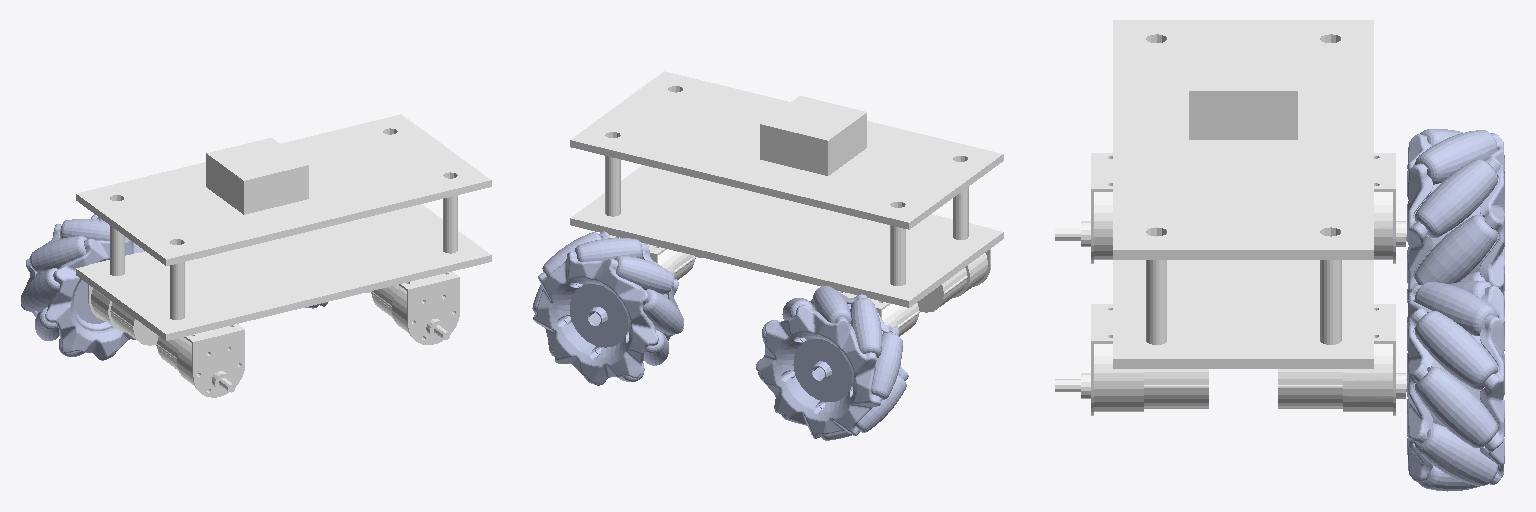
URDF robot description (robot):
<?xml version="1.0"?>
<!-- This URDF was automatically created by SolidWorks to URDF Exporter! Originally created by [author] ([email redacted]) 
     Commit Version: 1.6.0-4-g7f85cfe  Build Version: 1.6.7995.38578
     For more information, please see http://wiki.ros.org/sw_urdf_exporter -->
<robot
  name="robot">

  <!-- Robot Footprint -->
  <link name="base_footprint"/>

  <joint name="base_joint" type="fixed">
    <parent link="base_footprint"/>
    <child link="base_link"/>
    <origin xyz="0.0 0.0 0.080" rpy="0 0 0"/>
  </joint>

  <link
    name="base_link">
    <inertial>
      <origin
        xyz="-0.0049027 -0.0011362 0.0090593"
        rpy="0 0 0" />
      <mass
        value="0.60178" />
      <inertia
        ixx="0.00044806"
        ixy="1.8894E-19"
        ixz="2.1572E-21"
        iyy="0.0015844"
        iyz="-3.0697E-20"
        izz="0.0019811" />
    </inertial>
    <visual>
      <origin
        xyz="0 0 0"
        rpy="0 0 0" />
      <geometry>
        <mesh
          filename="package://robot_sim/meshes/base_link.STL" />
      </geometry>
      <material
        name="">
        <color
          rgba="1 1 1 1" />
      </material>
    </visual>
    <collision>
      <origin
        xyz="0 0 0"
        rpy="0 0 0" />
      <geometry>
        <mesh
          filename="package://robot_sim/meshes/base_link.STL" />
      </geometry>
    </collision>
  </link>
  <link
    name="wheel_front_left_link">
    <inertial>
      <origin
        xyz="-1.3717E-06 -6.2078E-06 -4.542E-06"
        rpy="0 0 0" />
      <mass
        value="0.19171" />
      <inertia
        ixx="0.00013676"
        ixy="-9.518E-09"
        ixz="-1.534E-09"
        iyy="0.00022818"
        iyz="-6.6421E-09"
        izz="0.00013676" />
    </inertial>
    <visual>
      <origin
        xyz="0 0 0"
        rpy="0 0 0" />
      <geometry>
        <mesh
          filename="package://robot_sim/meshes/wheel_front_left_link.STL" />
      </geometry>
      <material
        name="">
        <color
          rgba="0.79216 0.81961 0.93333 1" />
      </material>
    </visual>
    <collision>
      <origin
        xyz="0 0 0"
        rpy="0 0 0" />
      <geometry>
        <mesh
          filename="package://robot_sim/meshes/wheel_front_left_link.STL" />
      </geometry>
    </collision>
  </link>
  <joint
    name="wheel_front_left_joint"
    type="continuous">
    <origin
      xyz="0.075 0.096581 -0.037"
      rpy="0 0 0" />
    <parent
      link="base_link" />
    <child
      link="wheel_front_left_link" />
    <axis
      xyz="0 -1 0" />
  </joint>
  <link
    name="wheel_front_right_link">
    <inertial>
      <origin
        xyz="-1.3952E-06 7.9272E-06 -4.5505E-06"
        rpy="0 0 0" />
      <mass
        value="0.19167" />
      <inertia
        ixx="0.00013674"
        ixy="8.6003E-09"
        ixz="1.8421E-09"
        iyy="0.00022815"
        iyz="7.2195E-09"
        izz="0.00013674" />
    </inertial>
    <visual>
      <origin
        xyz="0 0 0"
        rpy="0 0 0" />
      <geometry>
        <mesh
          filename="package://robot_sim/meshes/wheel_front_right_link.STL" />
      </geometry>
      <material
        name="">
        <color
          rgba="0.79216 0.81961 0.93333 1" />
      </material>
    </visual>
    <collision>
      <origin
        xyz="0 0 0"
        rpy="0 0 0" />
      <geometry>
        <mesh
          filename="package://robot_sim/meshes/wheel_front_right_link.STL" />
      </geometry>
    </collision>
  </link>
  <joint
    name="wheel_front_right_joint"
    type="continuous">
    <origin
      xyz="0.075 -0.098854 -0.037"
      rpy="0 0 0" />
    <parent
      link="base_link" />
    <child
      link="wheel_front_right_link" />
    <axis
      xyz="0 1 0" />
  </joint>
  <link
    name="wheel_back_left_link">
    <inertial>
      <origin
        xyz="1.3952E-06 -7.9272E-06 -4.5505E-06"
        rpy="0 0 0" />
      <mass
        value="0.19167" />
      <inertia
        ixx="0.00013674"
        ixy="8.6003E-09"
        ixz="-1.8422E-09"
        iyy="0.00022815"
        iyz="-7.2197E-09"
        izz="0.00013674" />
    </inertial>
    <visual>
      <origin
        xyz="0 0 0"
        rpy="0 0 0" />
      <geometry>
        <mesh
          filename="package://robot_sim/meshes/wheel_back_left_link.STL" />
      </geometry>
      <material
        name="">
        <color
          rgba="0.79216 0.81961 0.93333 1" />
      </material>
    </visual>
    <collision>
      <origin
        xyz="0 0 0"
        rpy="0 0 0" />
      <geometry>
        <mesh
          filename="package://robot_sim/meshes/wheel_back_left_link.STL" />
      </geometry>
    </collision>
  </link>
  <joint
    name="wheel_back_left_joint"
    type="continuous">
    <origin
      xyz="-0.09 0.096581 -0.037"
      rpy="0 0 0" />
    <parent
      link="base_link" />
    <child
      link="wheel_back_left_link" />
    <axis
      xyz="0 -1 0" />
  </joint>
  <link
    name="wheel_back_right_link">
    <inertial>
      <origin
        xyz="1.3718E-06 6.2078E-06 -4.542E-06"
        rpy="0 0 0" />
      <mass
        value="0.19171" />
      <inertia
        ixx="0.00013676"
        ixy="-9.5179E-09"
        ixz="1.534E-09"
        iyy="0.00022818"
        iyz="6.6421E-09"
        izz="0.00013676" />
    </inertial>
    <visual>
      <origin
        xyz="0 0 0"
        rpy="0 0 0" />
      <geometry>
        <mesh
          filename="package://robot_sim/meshes/wheel_back_right_link.STL" />
      </geometry>
      <material
        name="">
        <color
          rgba="0.79216 0.81961 0.93333 1" />
      </material>
    </visual>
    <collision>
      <origin
        xyz="0 0 0"
        rpy="0 0 0" />
      <geometry>
        <mesh
          filename="package://robot_sim/meshes/wheel_back_right_link.STL" />
      </geometry>
    </collision>
  </link>
  <joint
    name="wheel_back_right_joint"
    type="continuous">
    <origin
      xyz="-0.09 -0.098854 -0.037"
      rpy="0 0 0" />
    <parent
      link="base_link" />
    <child
      link="wheel_back_right_link" />
    <axis
      xyz="0 1 0" />
  </joint>
  <link
    name="camera_link">
    <inertial>
      <origin
        xyz="0.0011843 0.0003548 -0.0033111"
        rpy="0 0 0" />
      <mass
        value="0.081392" />
      <inertia
        ixx="0.00013785"
        ixy="2.1587E-07"
        ixz="-1.3621E-06"
        iyy="1.1529E-05"
        iyz="-8.2079E-07"
        izz="0.00013308" />
    </inertial>
    <visual>
      <origin
        xyz="0 0 0"
        rpy="0 0 0" />
      <geometry>
        <mesh
          filename="package://robot_sim/meshes/camera_link.STL" />
      </geometry>
      <material
        name="">
        <color
          rgba="1 1 1 1" />
      </material>
    </visual>
    <collision>
      <origin
        xyz="0 0 0"
        rpy="0 0 0" />
      <geometry>
        <mesh
          filename="package://robot_sim/meshes/camera_link.STL" />
      </geometry>
    </collision>
  </link>
  <joint
    name="camera_joint"
    type="fixed">
    <origin
      xyz="0.08163 -0.0012919 0.08"
      rpy="0 0 0" />
    <parent
      link="base_link" />
    <child
      link="camera_link" />
    <axis
      xyz="0 0 0" />
  </joint>
  <link
    name="lidar_link">
    <inertial>
      <origin
        xyz="0.0099114 0.0021626 -0.0089204"
        rpy="0 0 0" />
      <mass
        value="0.019617" />
      <inertia
        ixx="7.6914E-06"
        ixy="-1.9553E-08"
        ixz="8.717E-08"
        iyy="6.4932E-06"
        iyz="-2.6626E-08"
        izz="1.3458E-05" />
    </inertial>
    <visual>
      <origin
        xyz="0 0 0"
        rpy="0 0 0" />
      <!-- <geometry>
        <mesh
          filename="package://robot_sim/meshes/lidar_link.STL" />
      </geometry> -->
      <material
        name="">
        <color
          rgba="1 1 1 1" />
      </material>
    </visual>
    <collision>
      <origin
        xyz="0 0 0"
        rpy="0 0 0" />
      <!-- <geometry>
        <mesh
          filename="package://robot_sim/meshes/lidar_link.STL" />
      </geometry> -->
    </collision>
  </link>
  <joint
    name="lidar_joint"
    type="fixed">
    <origin
      xyz="-0.018284 -0.003868 0.11"
      rpy="0 0 0" />
    <parent
      link="base_link" />
    <child
      link="lidar_link" />
    <axis
      xyz="0 0 0" />
  </joint>
</robot>

--- Render facts (derived) ---
The picture shows the robot from 3 angles, left to right: view 1: azimuth 30°, elevation 25°; view 2: azimuth 150°, elevation 25°; view 3: azimuth 270°, elevation 25°; orthographic projection.
Model robot with 8 links and 7 joints (4 continuous, 3 fixed), rooted at base_footprint, posed every joint at zero.
Visible links, largest first — view 1: base_link, wheel_back_left_link; view 2: base_link, wheel_front_left_link, wheel_back_left_link; view 3: base_link, wheel_front_left_link, wheel_back_left_link.
Link boxes in pixels (x1=…): base_link: x1=76, y1=114, x2=491, y2=397; wheel_back_left_link: x1=21, y1=214, x2=145, y2=360; base_link: x1=570, y1=71, x2=1003, y2=336; wheel_front_left_link: x1=532, y1=231, x2=683, y2=385; wheel_back_left_link: x1=756, y1=286, x2=908, y2=440; base_link: x1=1055, y1=20, x2=1406, y2=415; wheel_front_left_link: x1=1407, y1=281, x2=1504, y2=491; wheel_back_left_link: x1=1407, y1=129, x2=1504, y2=306.
Size in the robot's own frame: 0.2634 by 0.2069 by 0.1653 metres.
Meshes: 6 distinct files referenced, 3 mesh visuals loaded (3 binary STL); not drawn: 3 (file found but could not be loaded).